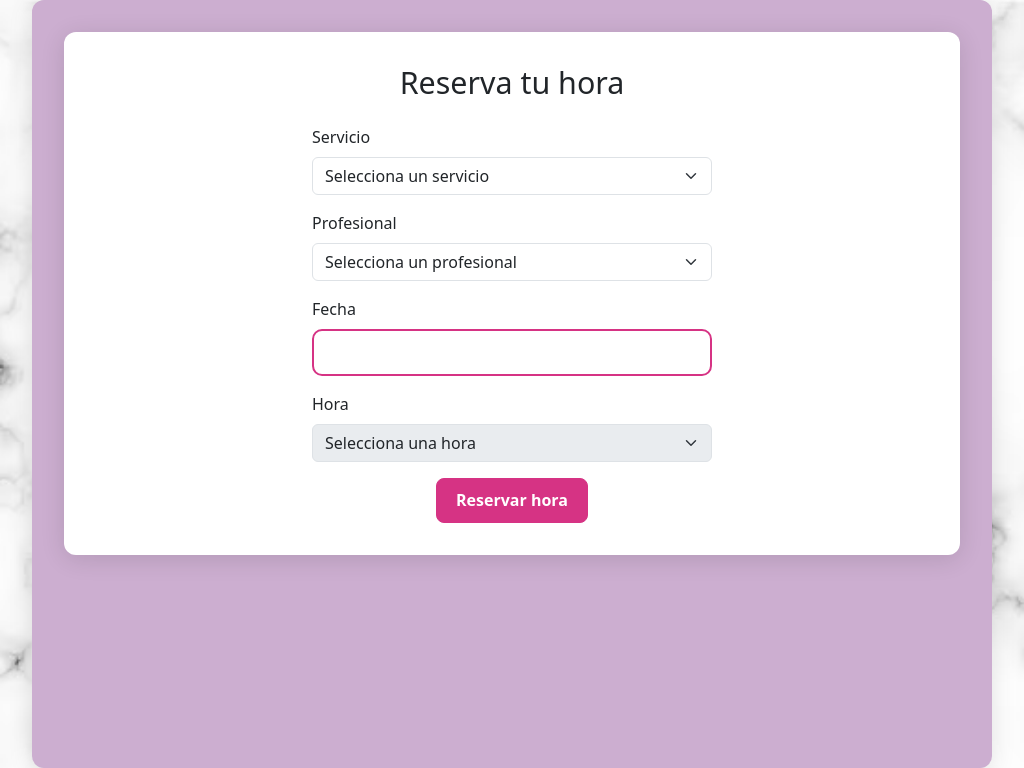
it: Reserva Page › muestra éxito cuando la reserva se crea correctamente
Select "Corte — $5.000" in the dropdown with test id "select-servicio": (512, 176) [312,156,712,194]
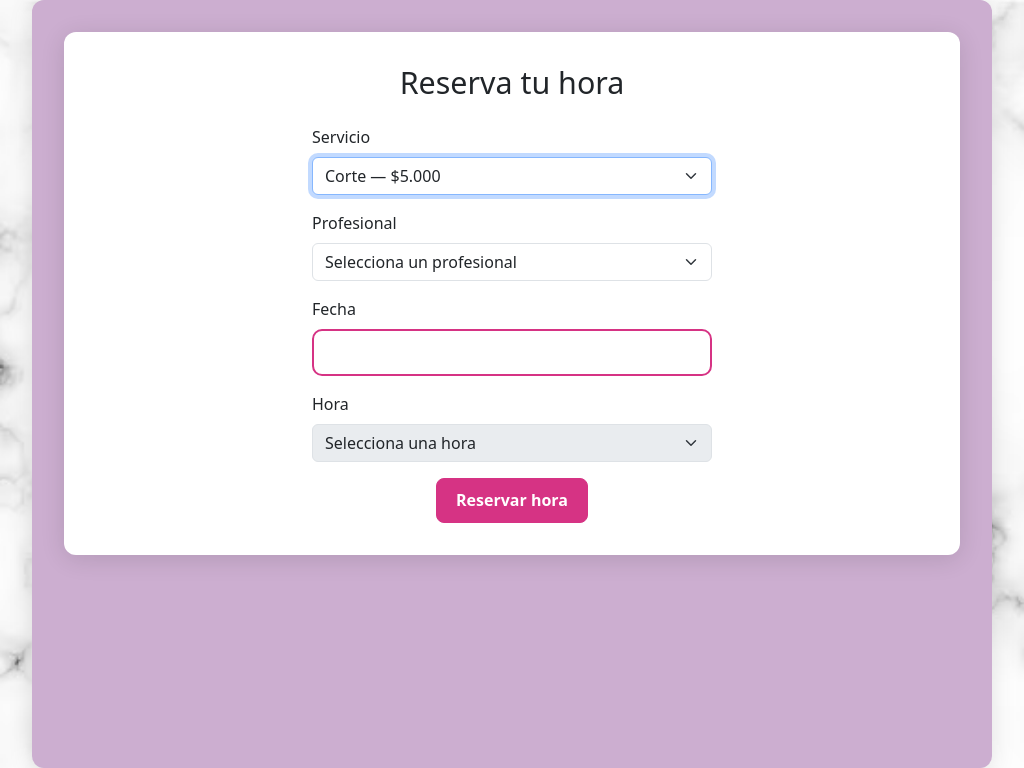
Select "Ana Pérez" in the dropdown with test id "select-trabajador": (512, 262) [312,242,712,280]
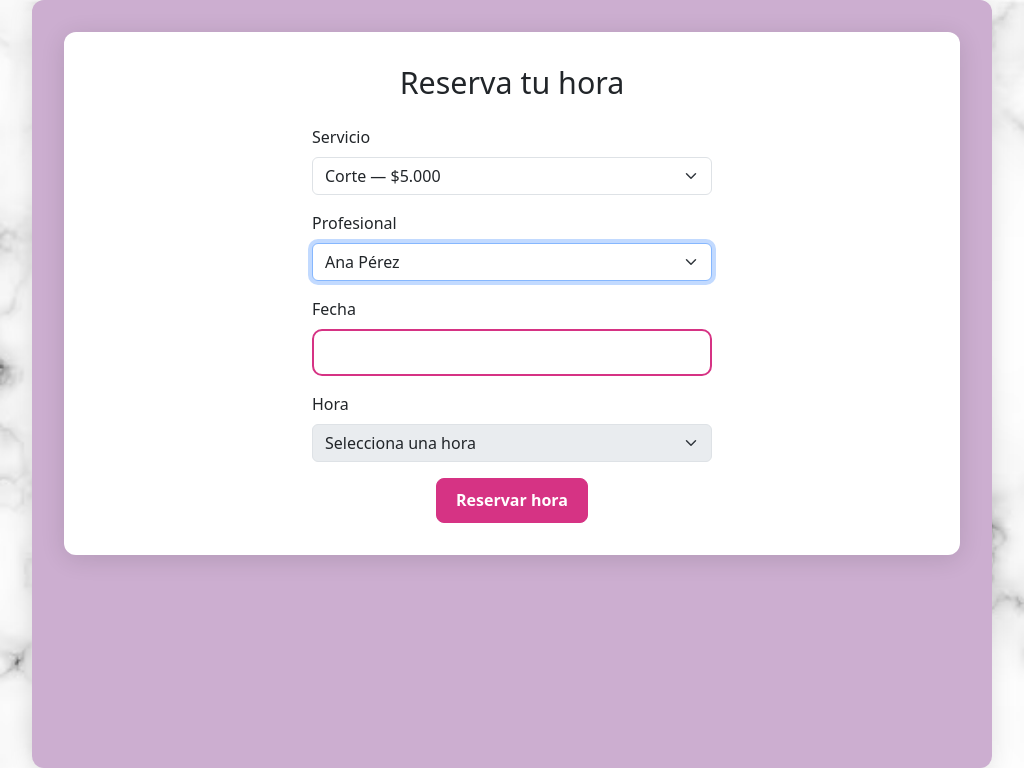
In the field with test id "input-fecha": (512, 352) [312,328,712,376], type "2025-01-02"
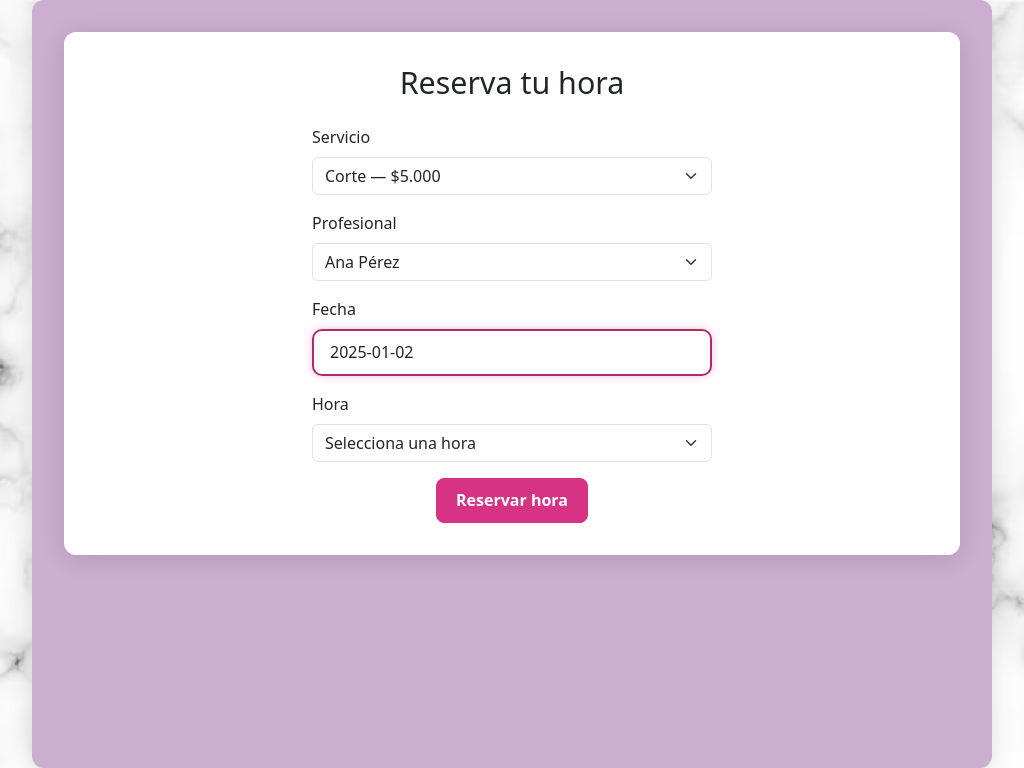
Select "10:00" in the dropdown with test id "select-hora": (512, 443) [312,424,712,462]
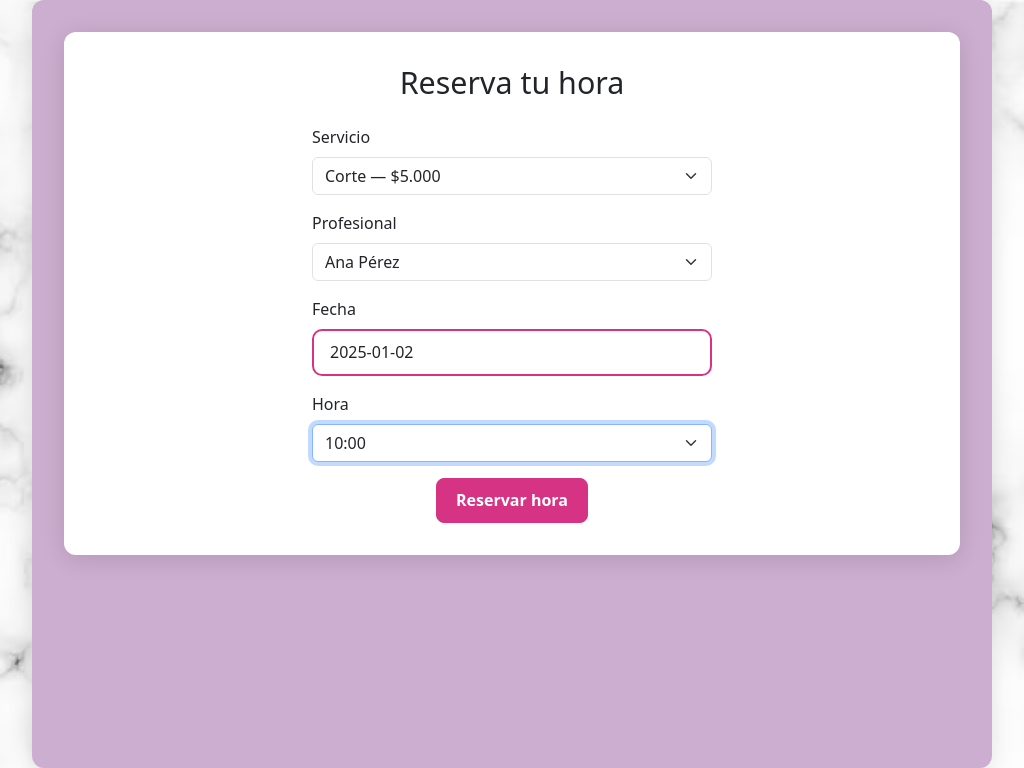
Click the button "Reservar hora": (512, 500) [436,478,588,523]
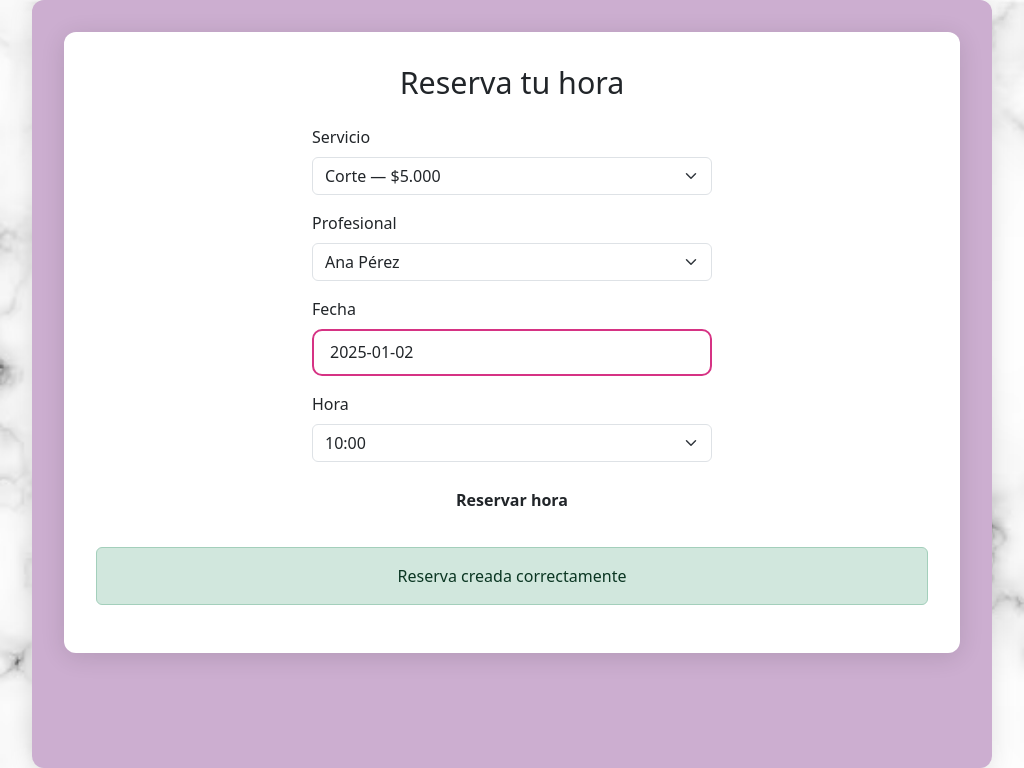
Check: the text "Reserva creada correctamente" is shown, box [96,547,928,605]
